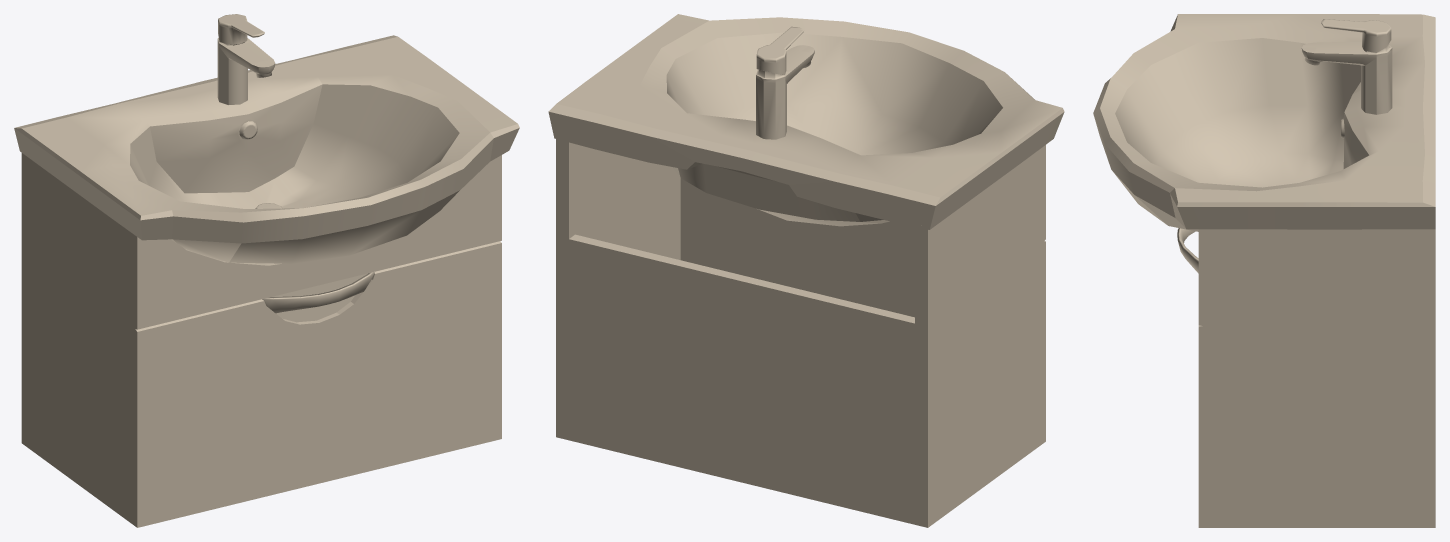
File: monolith_washbasin_with_cabinet_13_L.fbx
The picture shows the model from 3 angles, left to right: view 1: azimuth 30°, elevation 25°; view 2: azimuth 150°, elevation 25°; view 3: azimuth 270°, elevation 25°; orthographic projection. The views are drawn at different scales.
Parts seen in each view (by area): view 1: monolith_washbasin_with_cabinet_13_L; view 2: monolith_washbasin_with_cabinet_13_L; view 3: monolith_washbasin_with_cabinet_13_L.
Boxes of the visible parts, x1=… form: monolith_washbasin_with_cabinet_13_L: x1=14, y1=14, x2=519, y2=527; monolith_washbasin_with_cabinet_13_L: x1=548, y1=14, x2=1064, y2=527; monolith_washbasin_with_cabinet_13_L: x1=1093, y1=14, x2=1435, y2=527.
Size of the model in its own units: 14.85 by 15.15 by 11.34.
